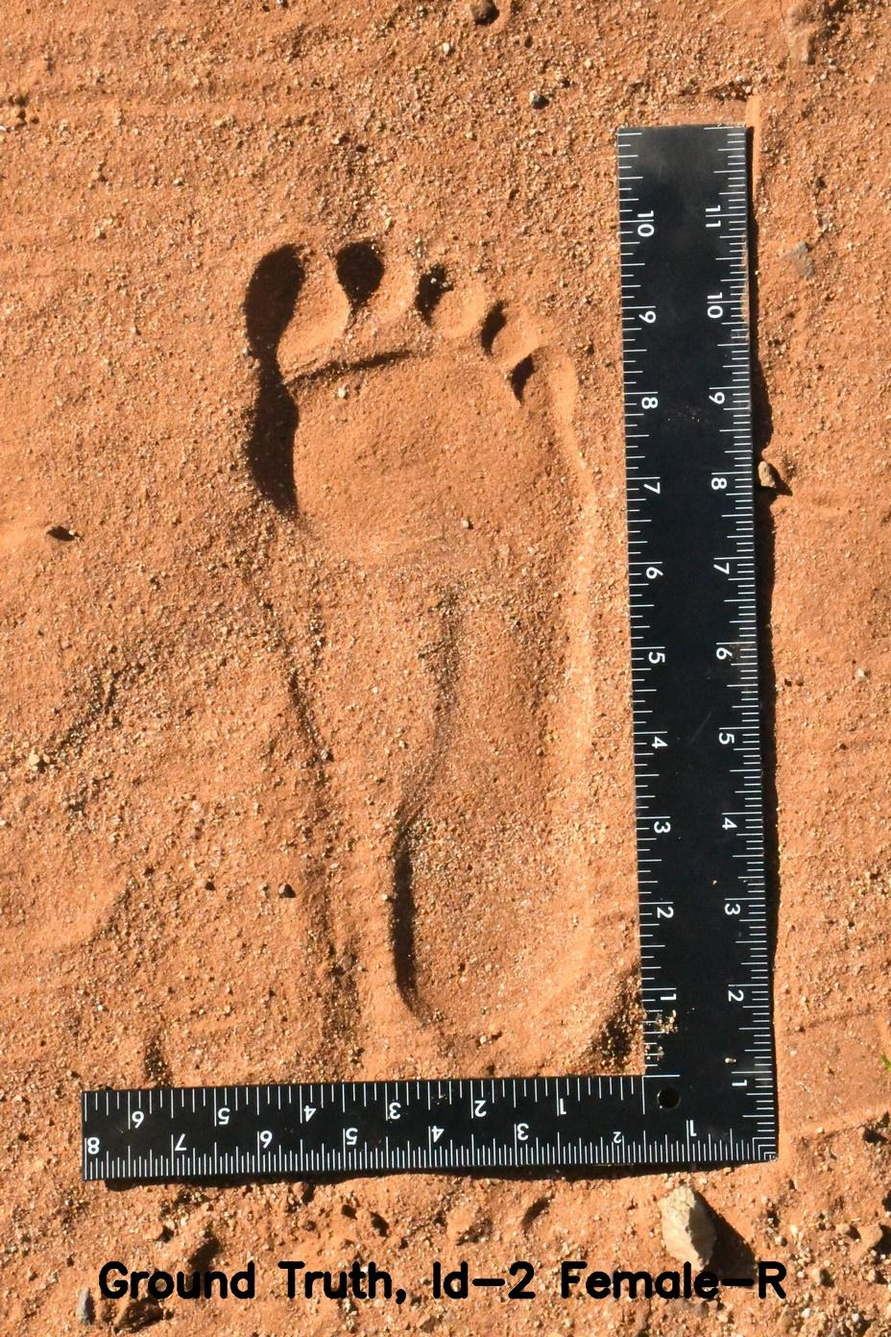human_footprint: (170, 183, 625, 1053)
